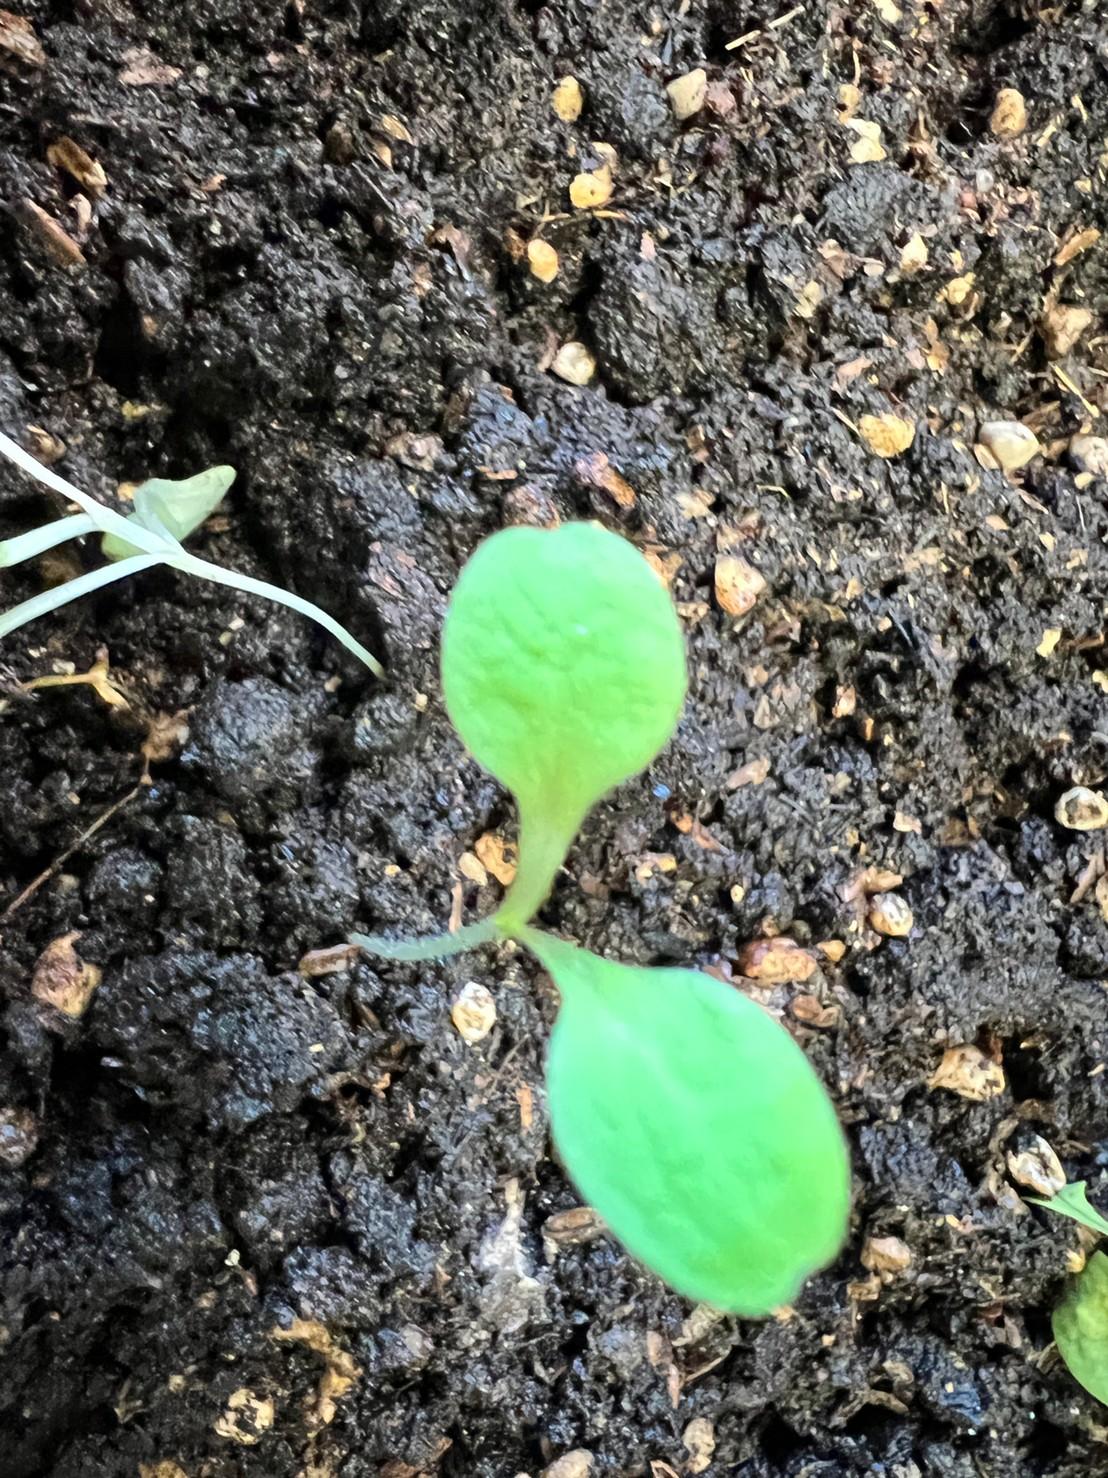week1: (446, 880, 912, 1301), (390, 496, 706, 947)
